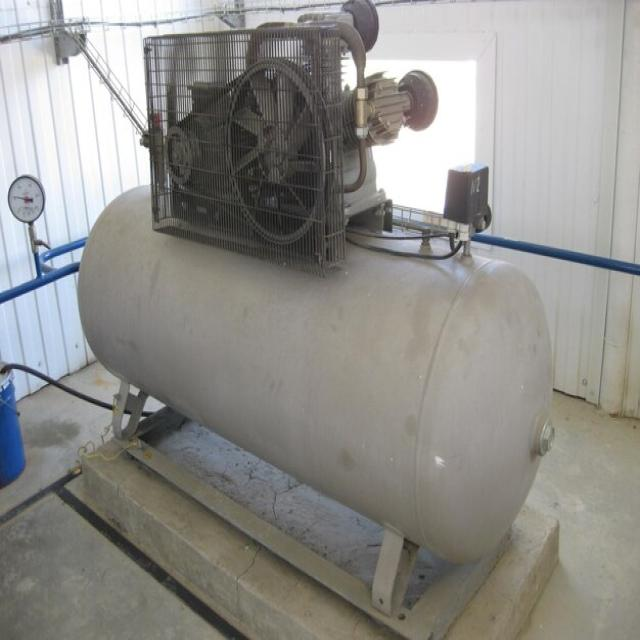compressor: (75, 9, 550, 618)
corrosion detected: (140, 0, 439, 272), (346, 67, 440, 148)
